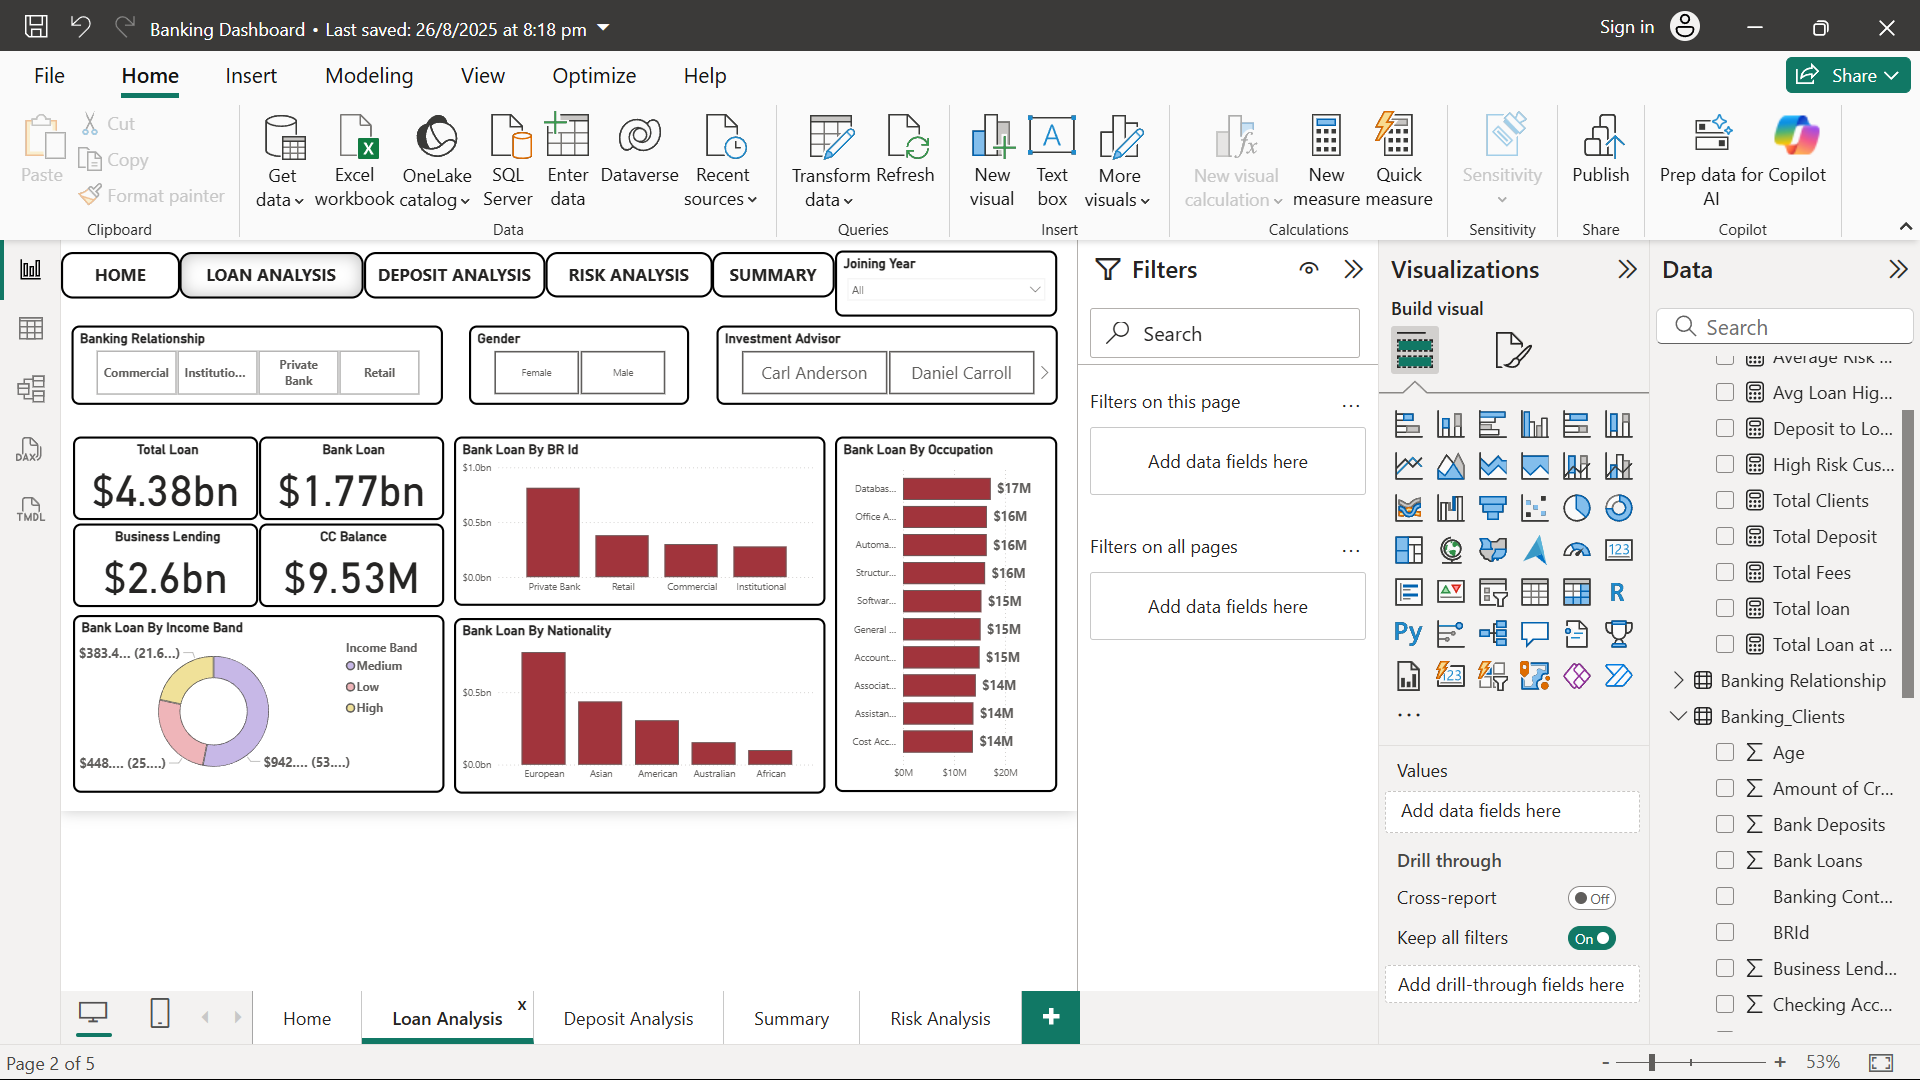

This screenshot's page, from the dashboard's own definition file:
{"tool":"powerbi","page":{"name":"Loan Analysis","canvas":[1280,720],"ordinal":1},"visuals":[{"type":"card","title":"Total Loan","fields":{"Values":["Module.Total loan"]},"box":[15,248.3,233.3,105],"z":0},{"type":"slicer","title":"Joining Year","fields":{"Values":["Banking_Clients.Joined Bank.Variation.Date Hierarchy.Year"]},"box":[975.1,13.6,280.1,83.3],"z":1000},{"type":"textbox","box":[0,15.7,150,58.6],"z":2000},{"type":"textbox","box":[381.4,15.7,228.6,58.6],"z":3000},{"type":"card","title":"Bank Loan","fields":{"Values":["Sum(Banking_Clients.Bank Loans)"]},"box":[250,248.3,233.3,105],"z":4000},{"type":"card","title":"Business Lending","fields":{"Values":["Sum(Banking_Clients.Business Lending)"]},"box":[15,356.7,233.3,105],"z":5000},{"type":"card","title":"CC Balance","fields":{"Values":["Sum(Banking_Clients.Credit Card Balance)"]},"box":[250,356.7,233,105],"z":6000},{"type":"textbox","box":[150,15,231.7,58.3],"z":7000},{"type":"textbox","box":[610.2,15.1,210.5,57.5],"z":8000},{"type":"donutChart","title":"Bank Loan By Income Band","fields":{"Category":["Banking_Clients.Income Band"],"Y":["Sum(Banking_Clients.Bank Loans)"]},"box":[15.1,472.4,467.9,224.1],"z":9000},{"type":"clusteredColumnChart","title":"Bank Loan By  BR Id","fields":{"Category":["Banking Relationship.Banking Relationship"],"Y":["Sum(Banking_Clients.Bank Loans)"]},"box":[495.1,248.3,467.9,213.5],"z":10000},{"type":"clusteredColumnChart","title":"Bank Loan By  Nationality","fields":{"Y":["Sum(Banking_Clients.Bank Loans)"],"Category":["Banking_Clients.Nationality"]},"box":[495.1,475.5,467.9,221.1],"z":11000},{"type":"barChart","title":"Bank Loan By Occupation","fields":{"Category":["Banking_Clients.Occupation"],"Y":["Sum(Banking_Clients.Bank Loans)"]},"box":[975.1,248.3,280.1,448.2],"z":12000},{"type":"slicer","title":"Banking Relationship","fields":{"Values":["Banking Relationship.Banking Relationship"]},"box":[13.6,107.5,467.9,99.9],"z":13000},{"type":"slicer","title":"Gender","fields":{"Values":["Gender.Gender"]},"box":[514.8,107.5,277.1,99.9],"z":14000},{"type":"slicer","title":"Investment Advisor","fields":{"Values":["Investment Advisor.Investment Advisor"]},"box":[825.2,107.5,430,99.9],"z":15000},{"type":"actionButton","box":[0,13.6,149.9,59.1],"z":16000},{"type":"actionButton","box":[381.6,13.6,228.6,59.1],"z":17000},{"type":"actionButton","box":[820.7,13.6,154.4,59.1],"z":18000},{"type":"textbox","box":[820.7,15.1,154.4,57.5],"z":18001},{"type":"actionButton","box":[610.2,13.6,210.5,60.6],"z":18002}]}

Visuals, with their boxes on the page's 1280x720 design canvas (x1, y1, x2, y2). These are canvas units, not pixel positions in the 1920x1080 screenshot, which may show the page scaled, cropped or inside an application window:
"Total Loan" card: box(15, 248, 248, 353)
"Joining Year" slicer: box(975, 14, 1255, 97)
textbox: box(0, 16, 150, 74)
textbox: box(381, 16, 610, 74)
"Bank Loan" card: box(250, 248, 483, 353)
"Business Lending" card: box(15, 357, 248, 462)
"CC Balance" card: box(250, 357, 483, 462)
textbox: box(150, 15, 382, 73)
textbox: box(610, 15, 821, 73)
"Bank Loan By Income Band" donutChart: box(15, 472, 483, 696)
"Bank Loan By  BR Id" clusteredColumnChart: box(495, 248, 963, 462)
"Bank Loan By  Nationality" clusteredColumnChart: box(495, 476, 963, 697)
"Bank Loan By Occupation" barChart: box(975, 248, 1255, 696)
"Banking Relationship" slicer: box(14, 108, 482, 207)
"Gender" slicer: box(515, 108, 792, 207)
"Investment Advisor" slicer: box(825, 108, 1255, 207)
actionButton: box(0, 14, 150, 73)
actionButton: box(382, 14, 610, 73)
actionButton: box(821, 14, 975, 73)
textbox: box(821, 15, 975, 73)
actionButton: box(610, 14, 821, 74)
